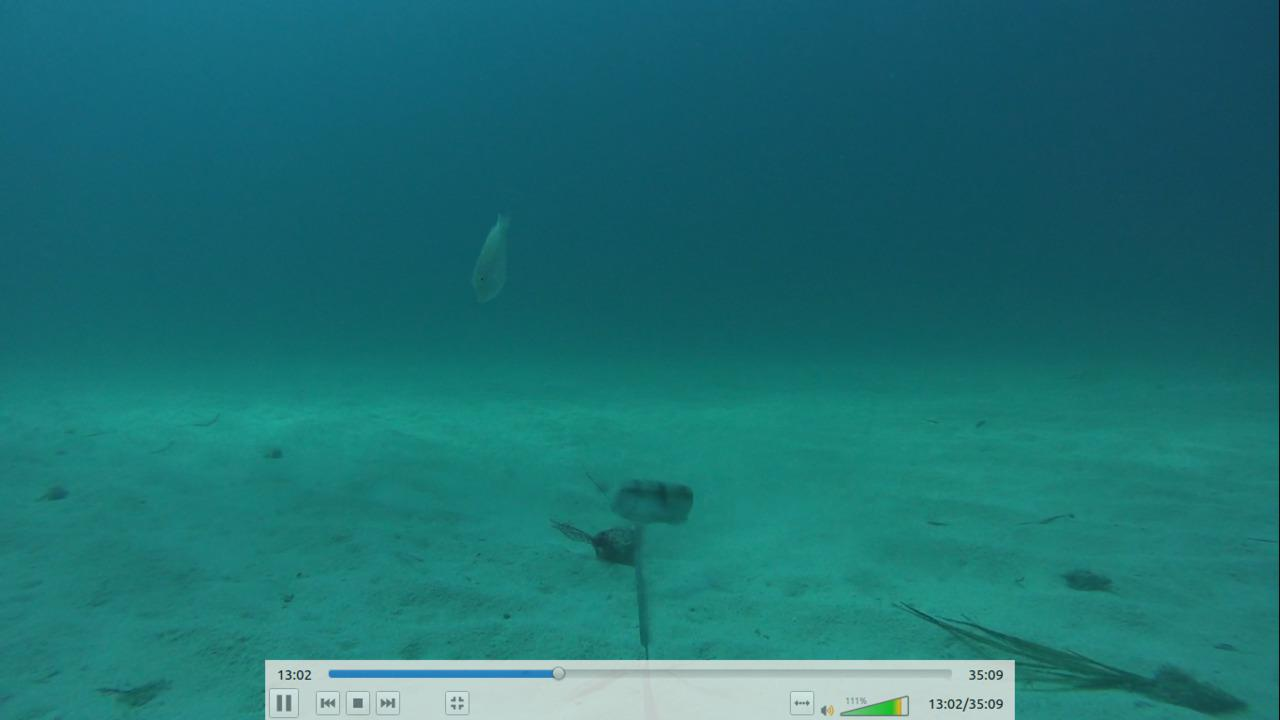raor: (602, 473, 699, 530), (468, 212, 516, 306)
